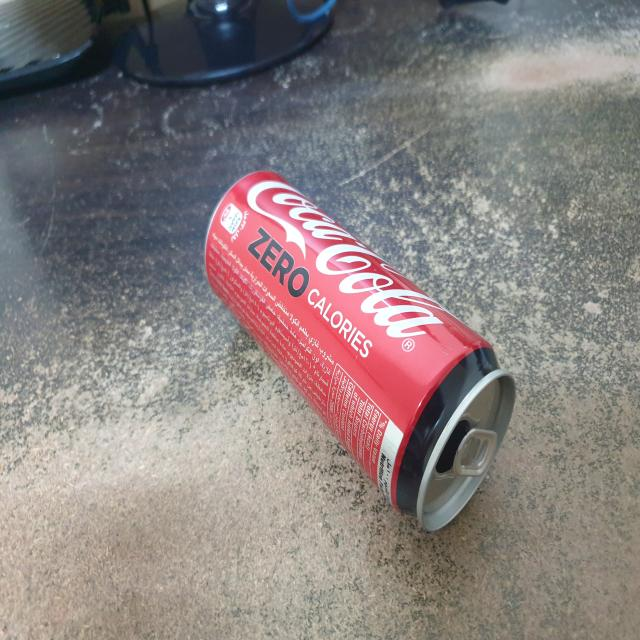non-organic waste: (203, 165, 519, 542)
